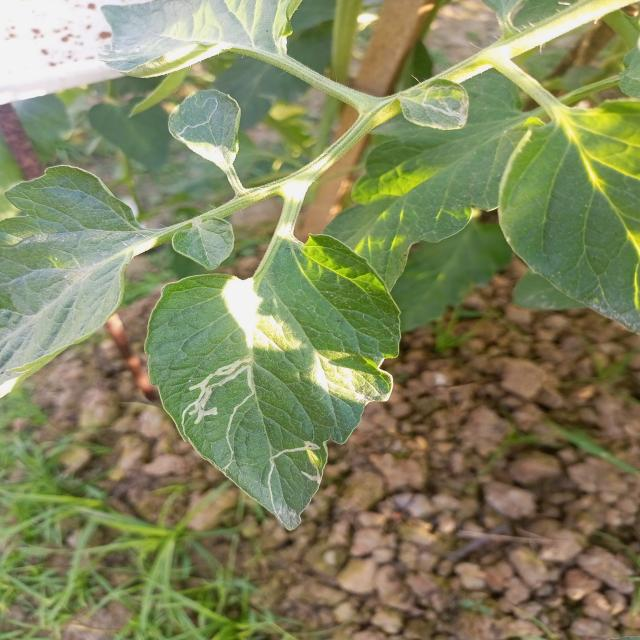Tuta absoluta: (173, 342, 266, 453), (267, 437, 326, 485)
